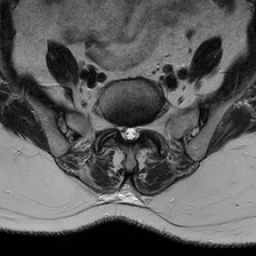CCS_severe_stenosis: (126, 118, 133, 145)
LFS_stenosis: (140, 117, 147, 138)
LLS_normal: (133, 120, 140, 141)
RFS_stenosis: (112, 118, 120, 137)
RLS_normal: (120, 121, 126, 140)
